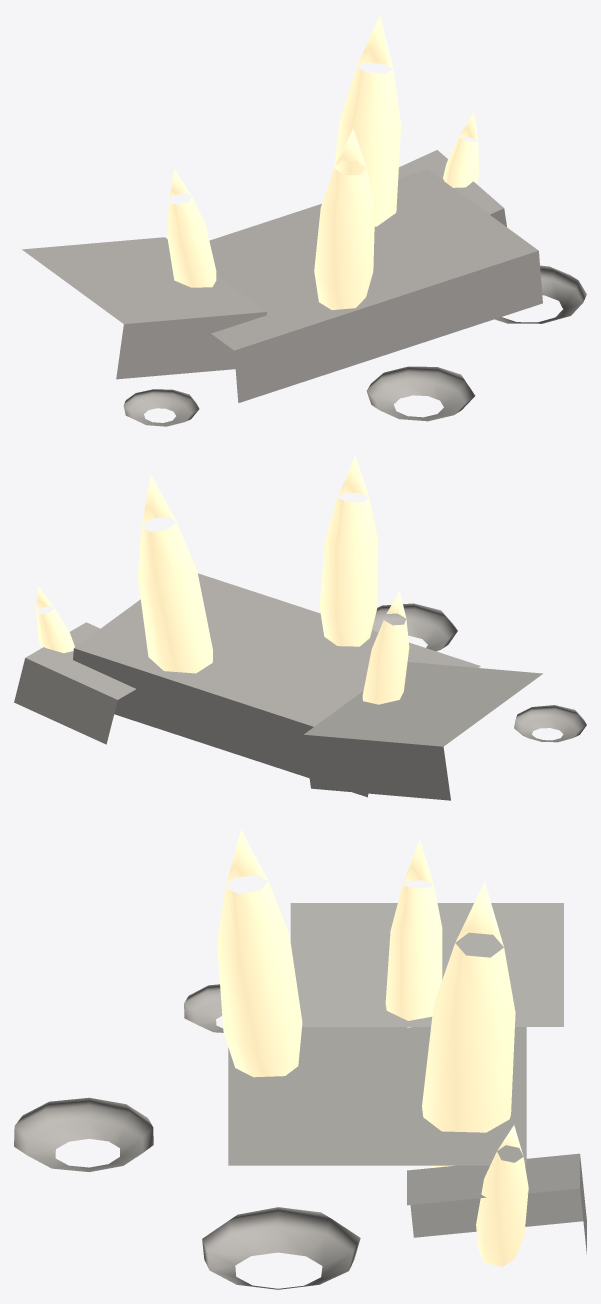
The model's file is SM_Node_AncientVein.glb.
The picture shows the model from 3 angles, top to bottom: view 1: azimuth 30°, elevation 25°; view 2: azimuth 150°, elevation 25°; view 3: azimuth 270°, elevation 25°; orthographic projection. The views are drawn at different scales.
Visible parts, largest first — view 1: SM_Node_AncientVein; view 2: SM_Node_AncientVein; view 3: SM_Node_AncientVein.
Boxes of the visible parts, x1,y1,x2,y2 form: SM_Node_AncientVein: (22, 15, 586, 426); SM_Node_AncientVein: (14, 455, 586, 800); SM_Node_AncientVein: (14, 829, 586, 1289).
Size of the model in its own units: 1.45 by 0.7775 by 1.15.
